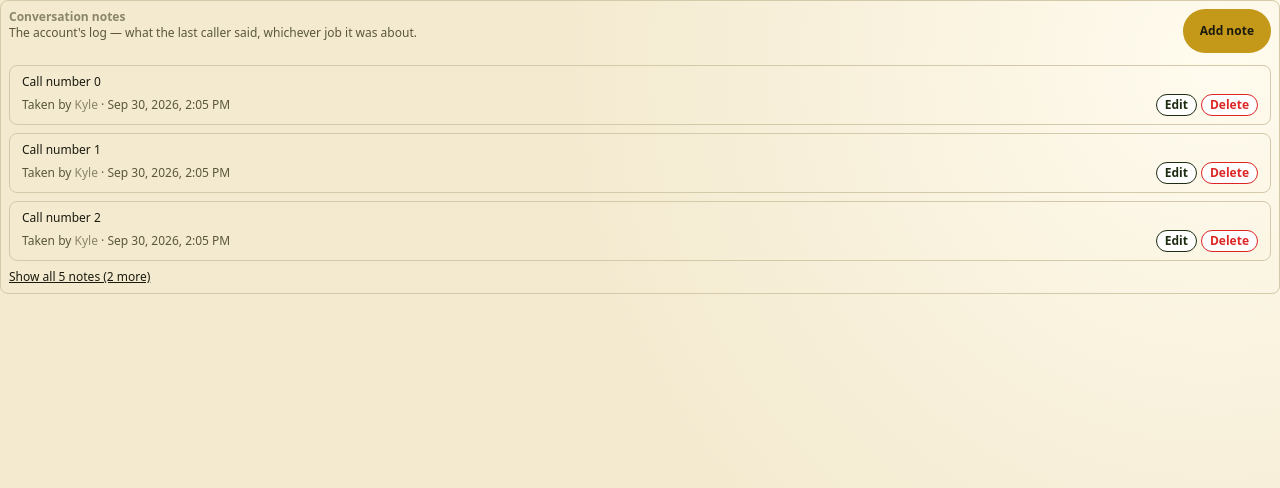
Test: ConversationNotes — reading the log › on the job drawer shows the newest few and 'Show all'; the account page shows every note
The width and height of the screenshot is (1280, 488).
Expected: the number of list items is 3, 9,65 -> 1271,125; 9,133 -> 1271,193; 9,201 -> 1271,261
Click the button "Show all 5 notes (2 more)". click: (80, 277)
box: 9,269 -> 150,285
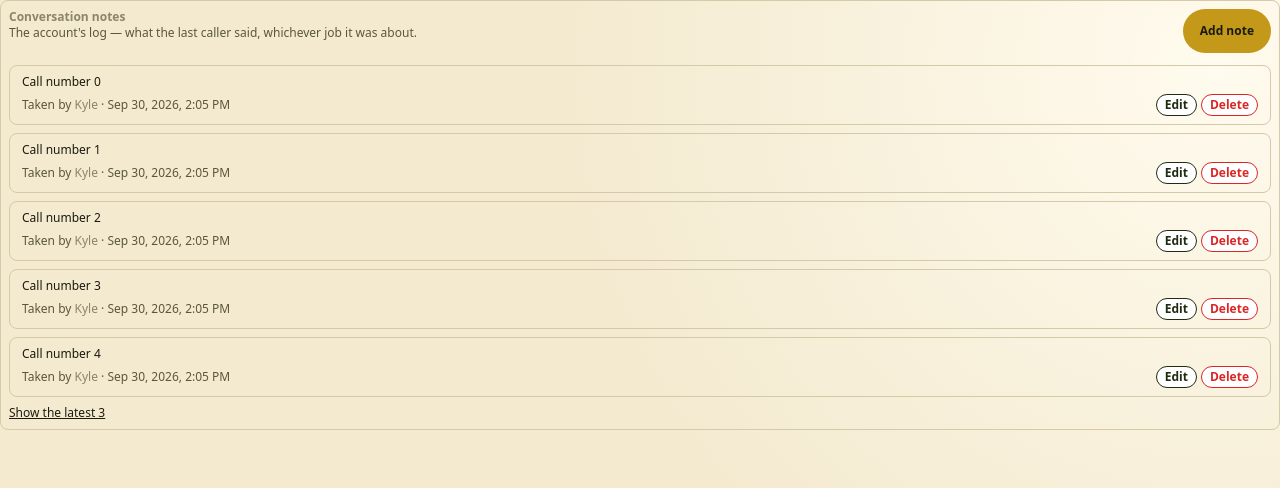
Result: the number of list items is 5 at 9,65 -> 1271,125; 9,133 -> 1271,193; 9,201 -> 1271,261; 9,269 -> 1271,329; 9,337 -> 1271,397
